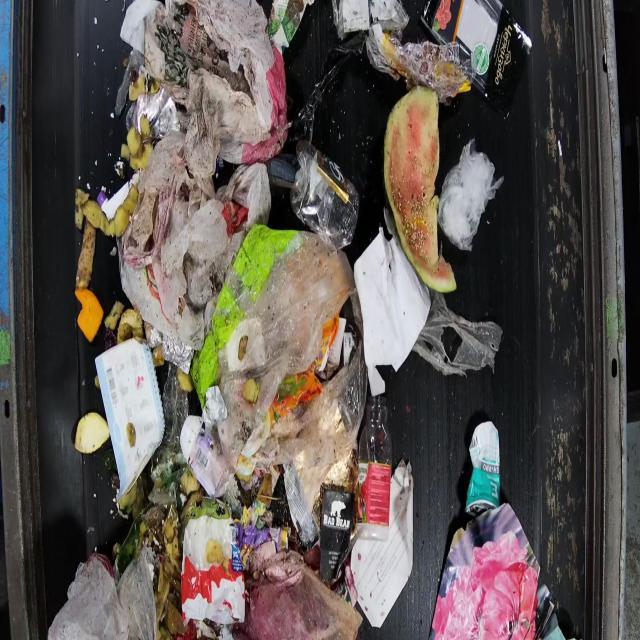bottles: (353, 394, 393, 539)
other-trash: (48, 0, 563, 639)
